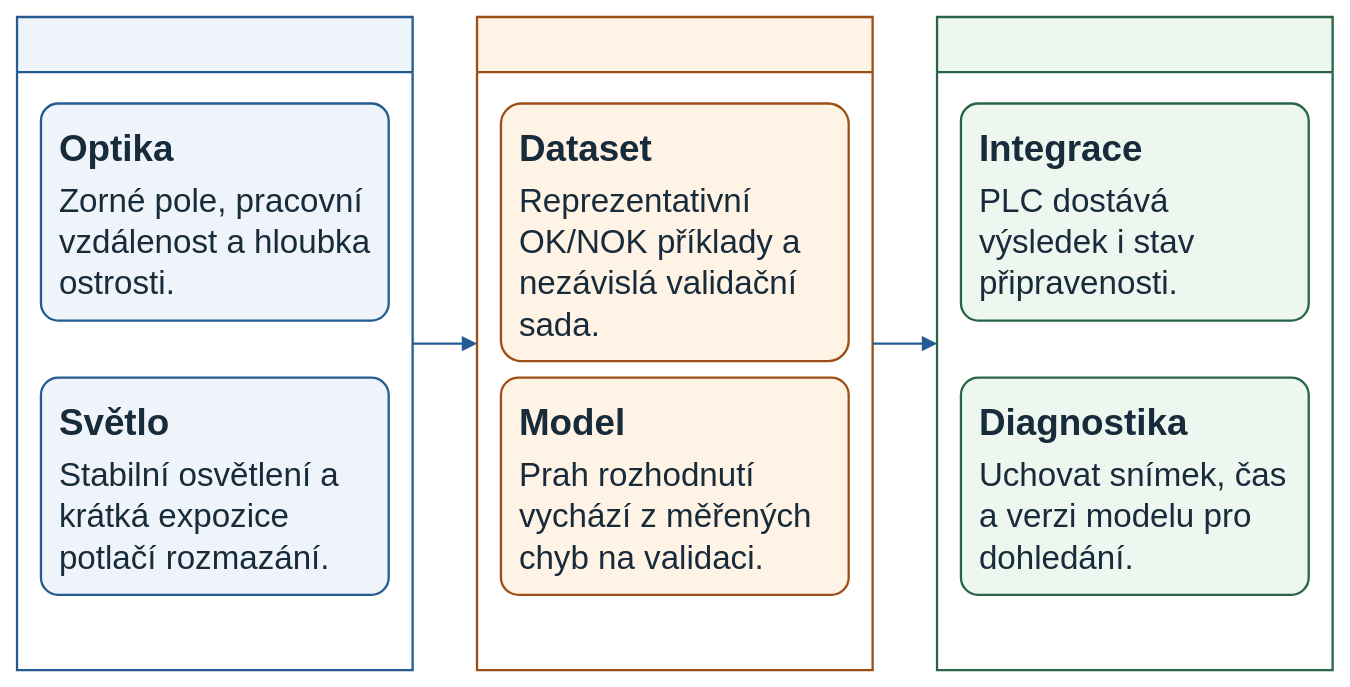
The diagram is 1350 pixels wide and 687 high, and some of its shapes have lost their labels. The box of each missing label's shape, as (x1, y1, x2, y2) in pixels:
Akvizice: (15, 15, 413, 671)
Provoz: (935, 15, 1333, 671)
Vyhodnocení: (475, 15, 873, 671)
